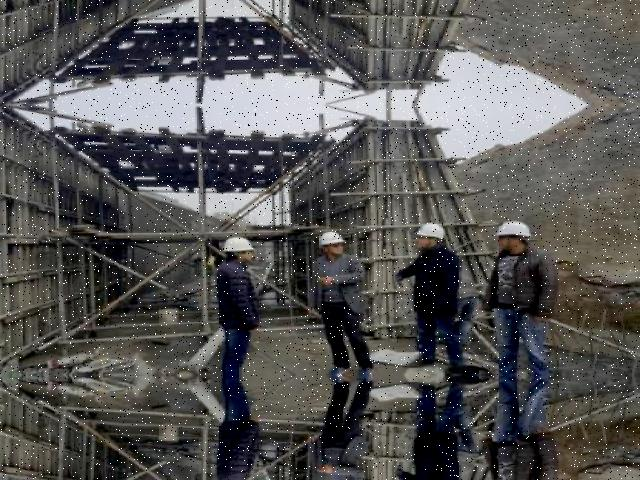Helmet: (495, 215, 541, 243), (408, 219, 452, 245), (221, 232, 262, 257), (319, 225, 353, 250)
